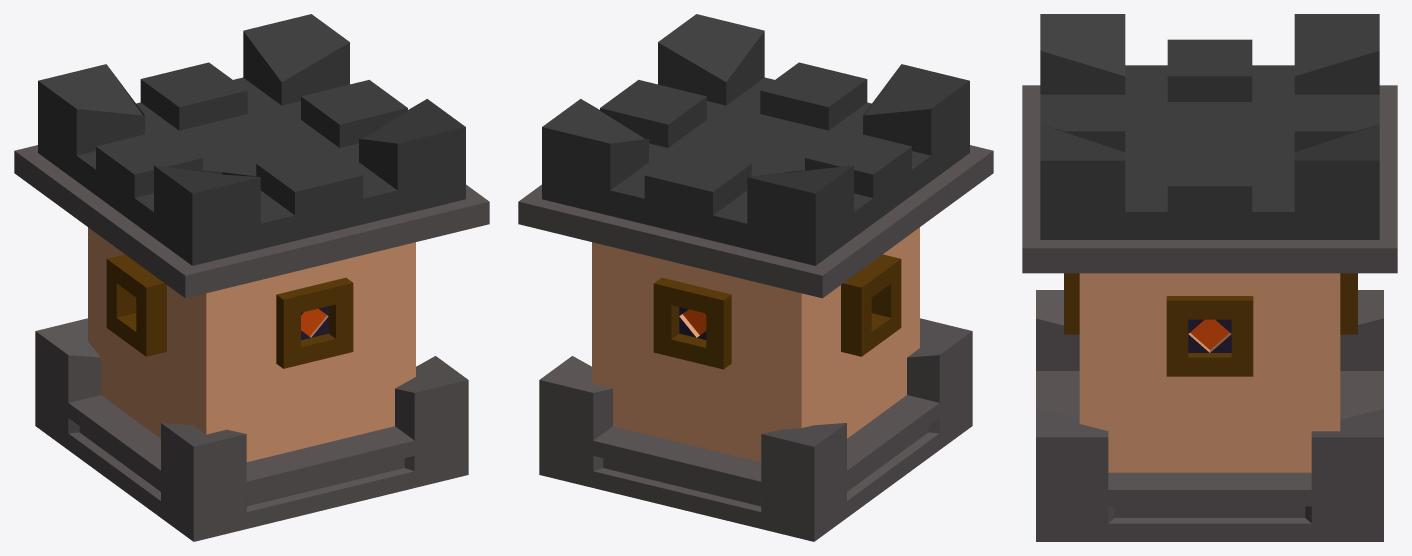
Rendered from Fire Tower.fbx.
3 renders of one model, left to right at view 1: azimuth 30°, elevation 25°; view 2: azimuth 150°, elevation 25°; view 3: azimuth 270°, elevation 25°, orthographic. The views are drawn at different scales.
Parts seen in each view (by area): view 1: Cube.002, Cube, Cube.001, Cube.003; view 2: Cube.002, Cube, Cube.001, Cube.003; view 3: Cube.002, Cube, Cube.001, Cube.003.
Part boxes in pixels (box(x1,y1,x2,y2)): Cube.002: box(38, 14, 465, 265); Cube: box(88, 227, 415, 461); Cube.001: box(35, 318, 468, 541); Cube.003: box(14, 145, 489, 298); Cube.002: box(542, 14, 969, 265); Cube: box(592, 227, 919, 461); Cube.001: box(539, 318, 972, 541); Cube.003: box(518, 145, 993, 298); Cube.002: box(1040, 14, 1379, 239); Cube: box(1064, 273, 1357, 472); Cube.001: box(1036, 290, 1383, 541); Cube.003: box(1022, 85, 1397, 273).
Size of the model in its own units: 408 by 445 by 398.
